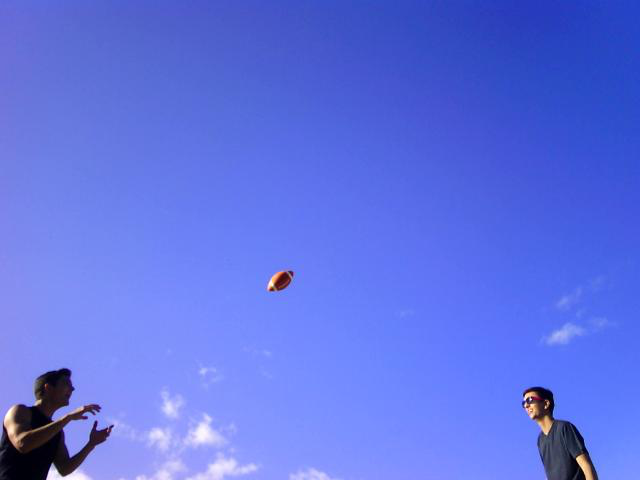football: (263, 266, 298, 295)
